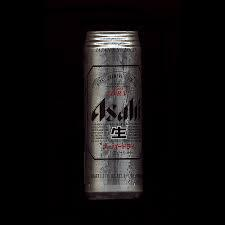beer: (78, 30, 150, 201)
